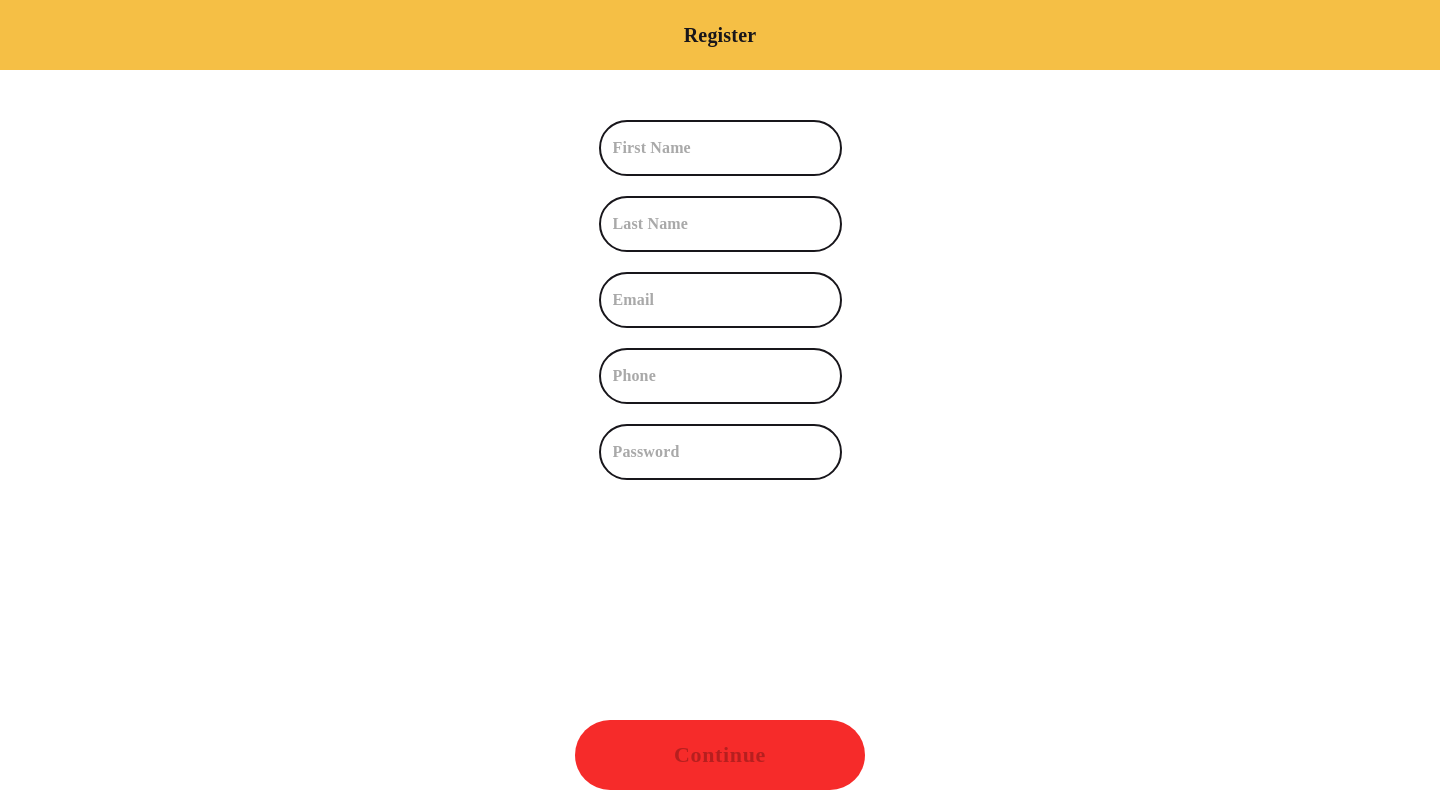
Test: new user registration › test the first inputField with wrong text
Type "rama" into the field with test id "firstName". click: (728, 148)
box: [614, 120, 842, 176]
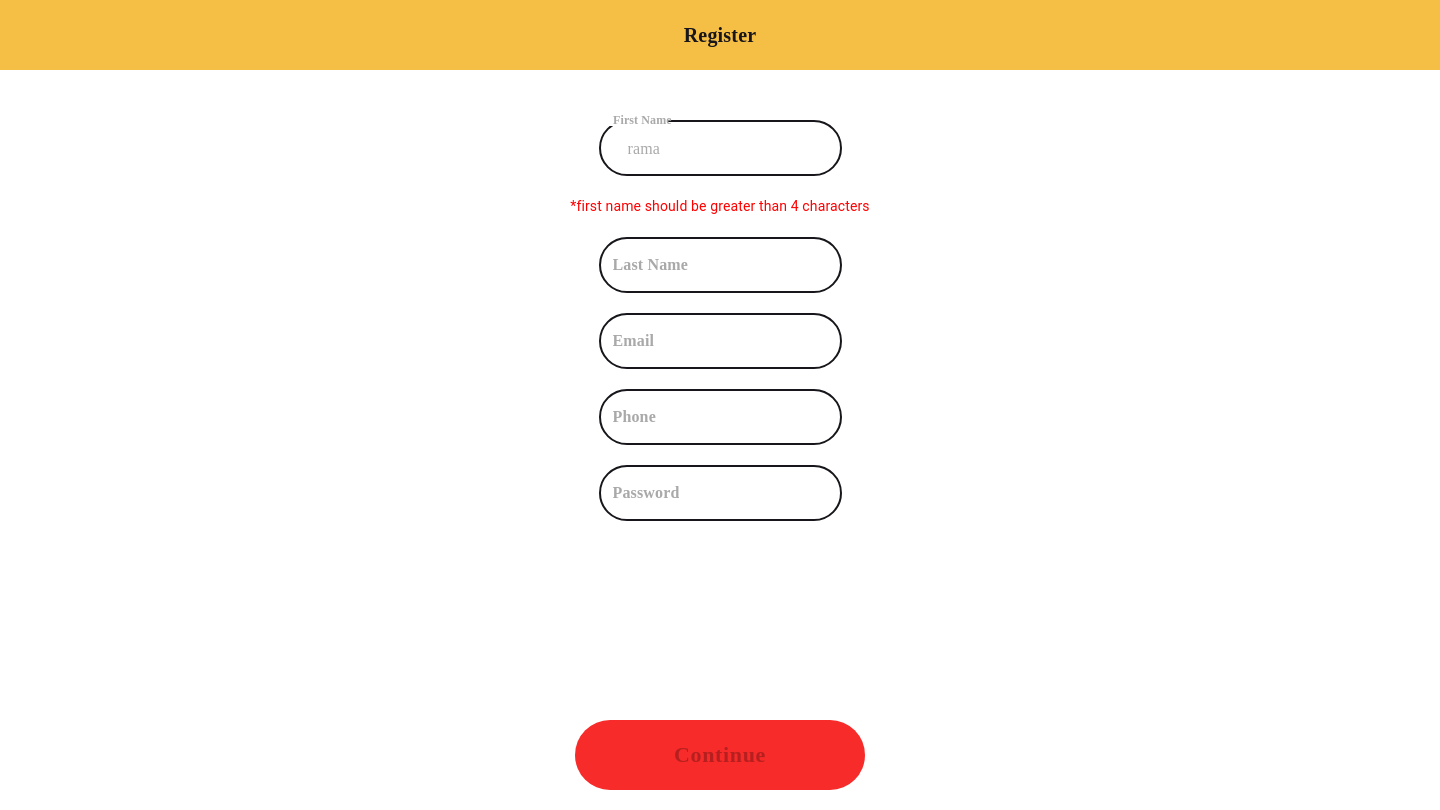
Expected: the text "*first name should be greater than 4 characters" is shown, [570, 196, 870, 217]
